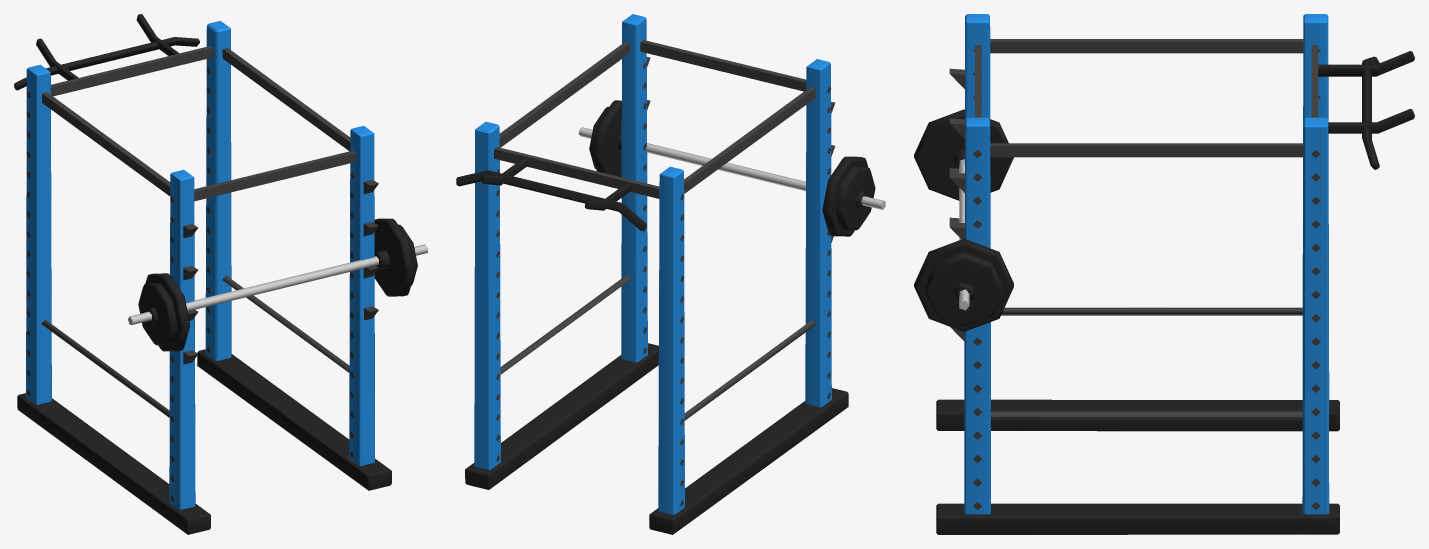
Rendered from training_009.fbx.
The picture shows the model from 3 angles, left to right: view 1: azimuth 30°, elevation 25°; view 2: azimuth 150°, elevation 25°; view 3: azimuth 270°, elevation 25°; orthographic projection. The views are drawn at different scales.
Parts seen in each view (by area): view 1: training_009; view 2: training_009; view 3: training_009.
Boxes of the visible parts, x1,y1,x2,y2 form: training_009: [14, 14, 427, 534]; training_009: [456, 14, 885, 534]; training_009: [914, 14, 1414, 534].
Size of the model in its own units: 197 by 245 by 220.
